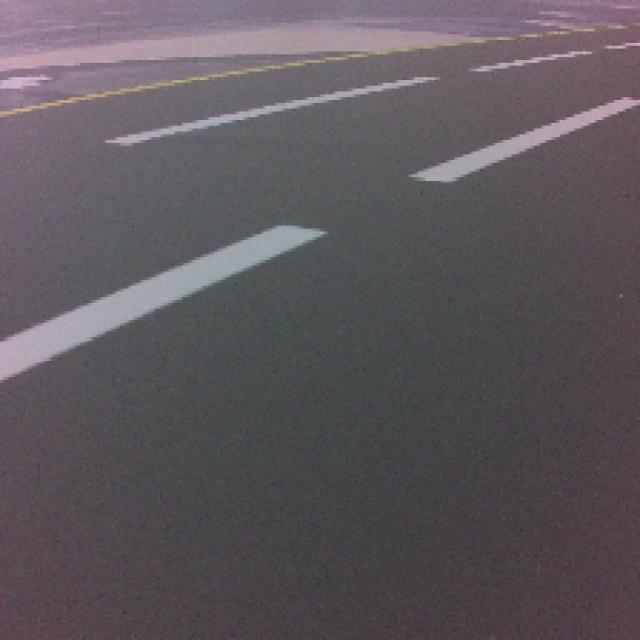Road: (0, 312, 634, 640)
